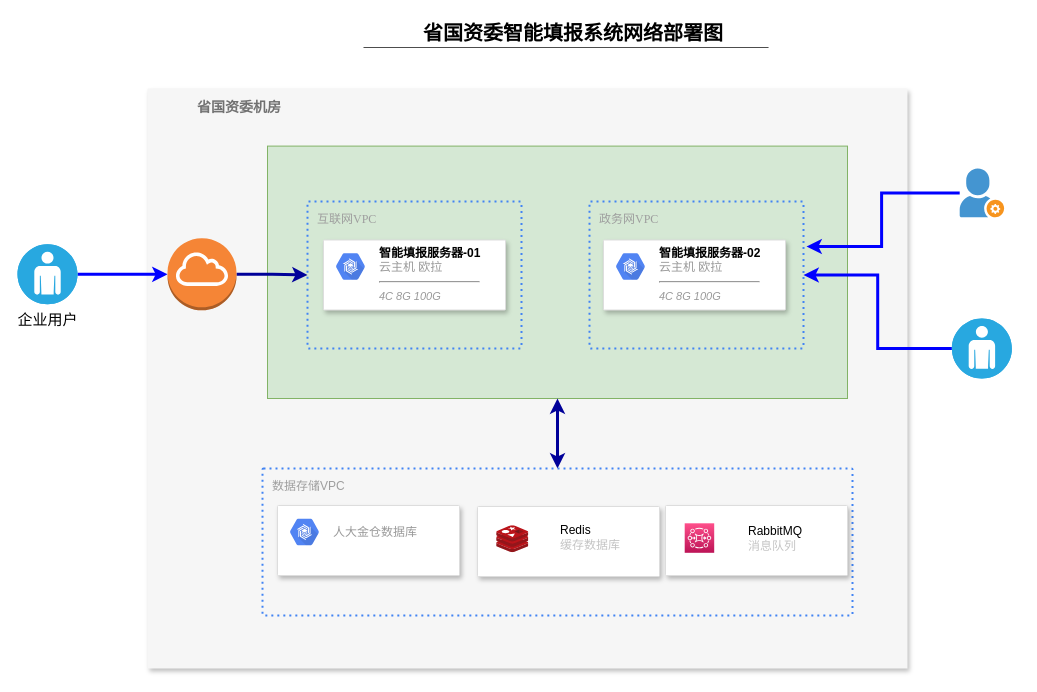
Image size: 1037x692. Some labels were removed from this diagram. Here are the shapes that lost their labels. From the top down, the centre of each, then its label:
At point (981, 192): "系统管理员".
At point (201, 273): "通用网关".
At point (981, 348): "国资委用户".
